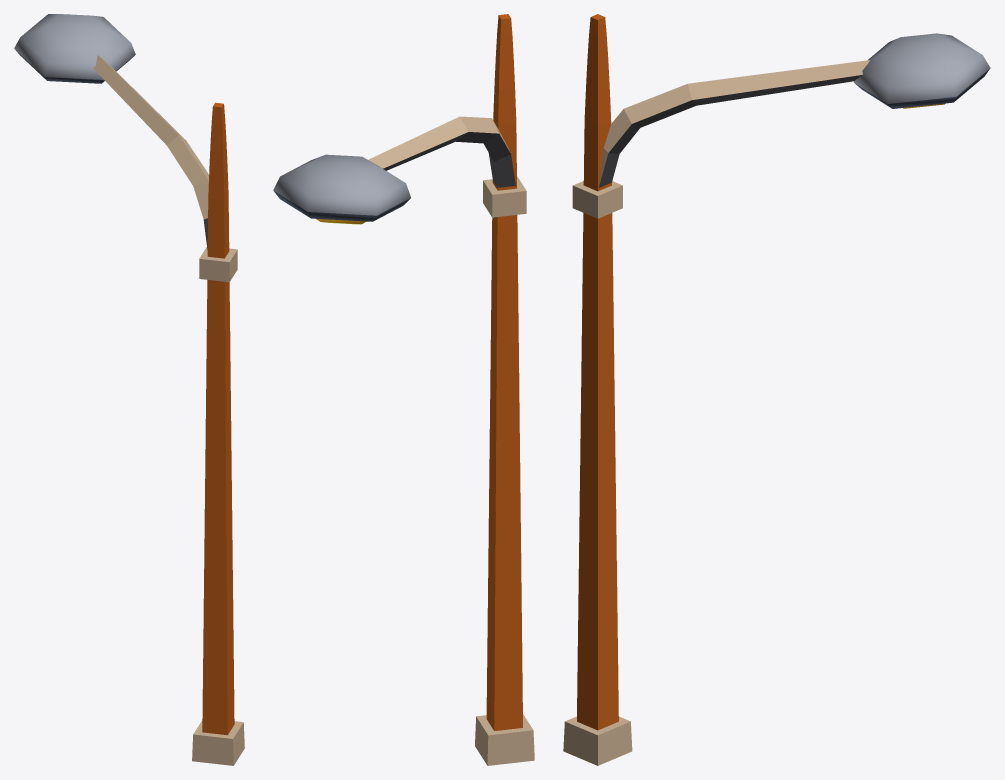
The model's file is lightpost.fbx.
3 views of the same model, side by side, from view 1: azimuth 30°, elevation 25°; view 2: azimuth 150°, elevation 25°; view 3: azimuth 270°, elevation 25° (orthographic). The views are drawn at different scales.
Visible parts, largest first — view 1: Arm; view 2: Arm; view 3: Arm.
Part boxes in pixels (left/top/right/bottom): Arm: left=14, top=14, right=244, bottom=765; Arm: left=273, top=14, right=534, bottom=765; Arm: left=563, top=14, right=990, bottom=765.
Size of the model in its own units: 119 by 806 by 425.
Materials: 1 (1 with a texture image).
